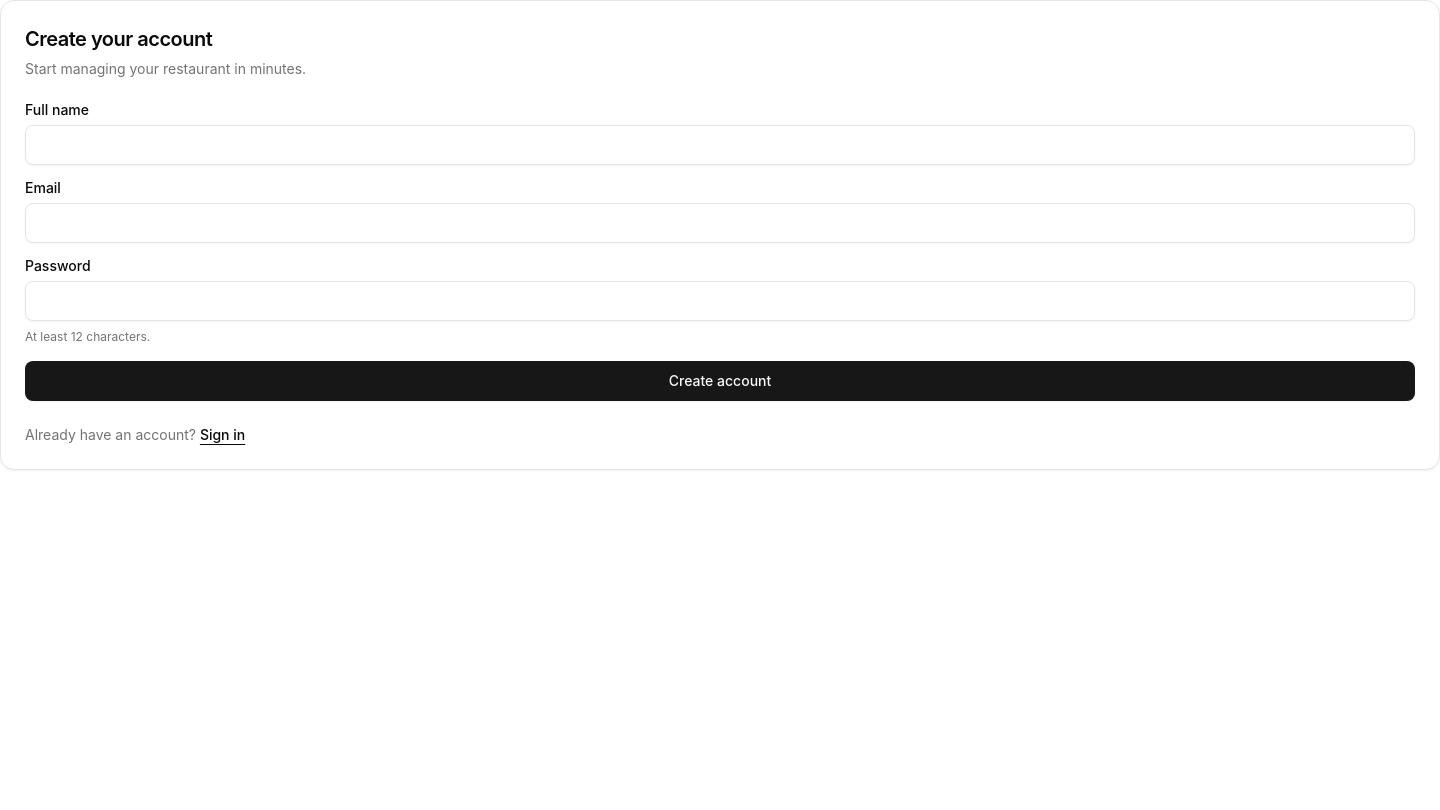
SignupForm › maps server validation details onto the matching fields
Type "Ayesha Khan" into the field labelled "Full name" at (720, 145), box [25,125,1415,165]
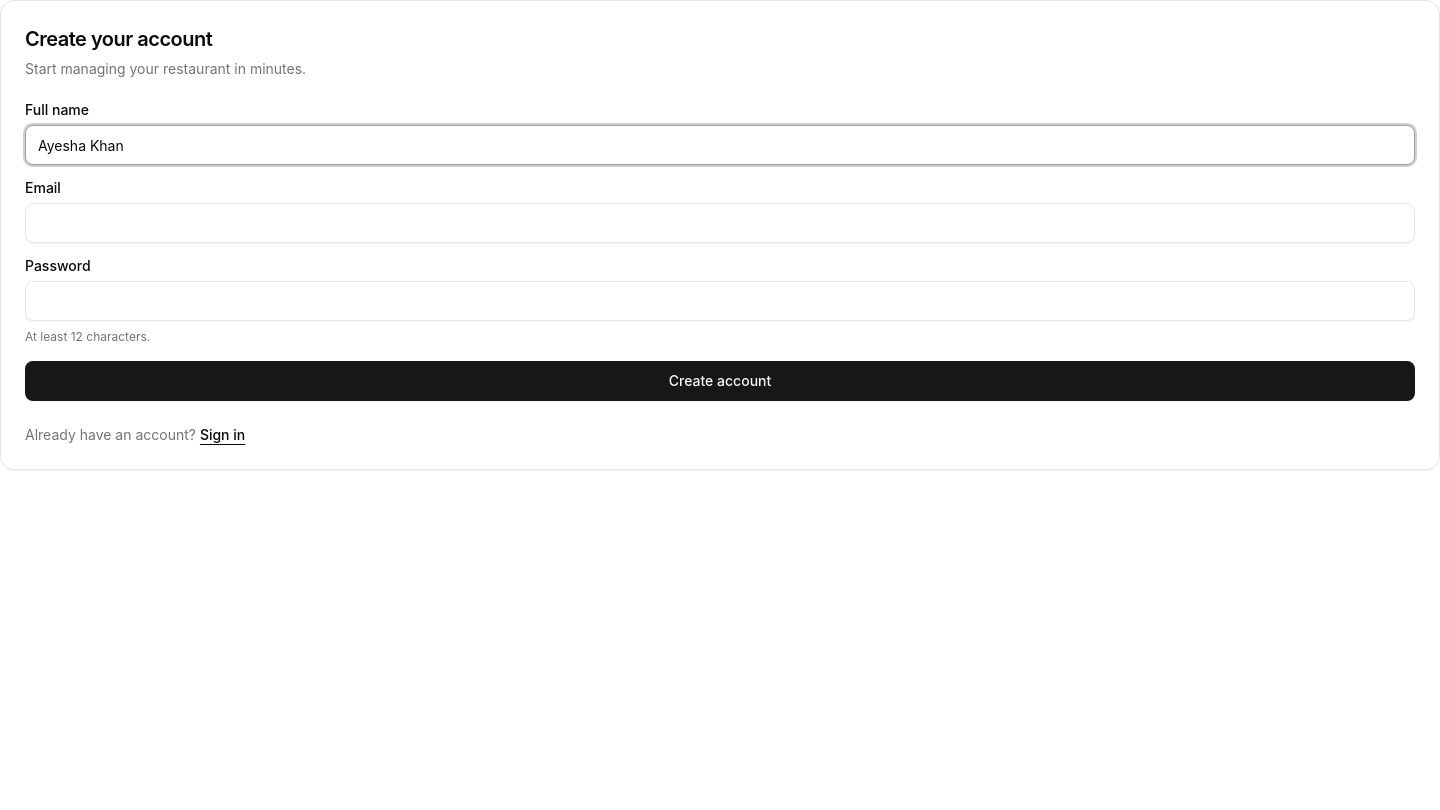
Type "ayesha@example.pk" into the field labelled "Email" at (720, 223), box [25,203,1415,243]
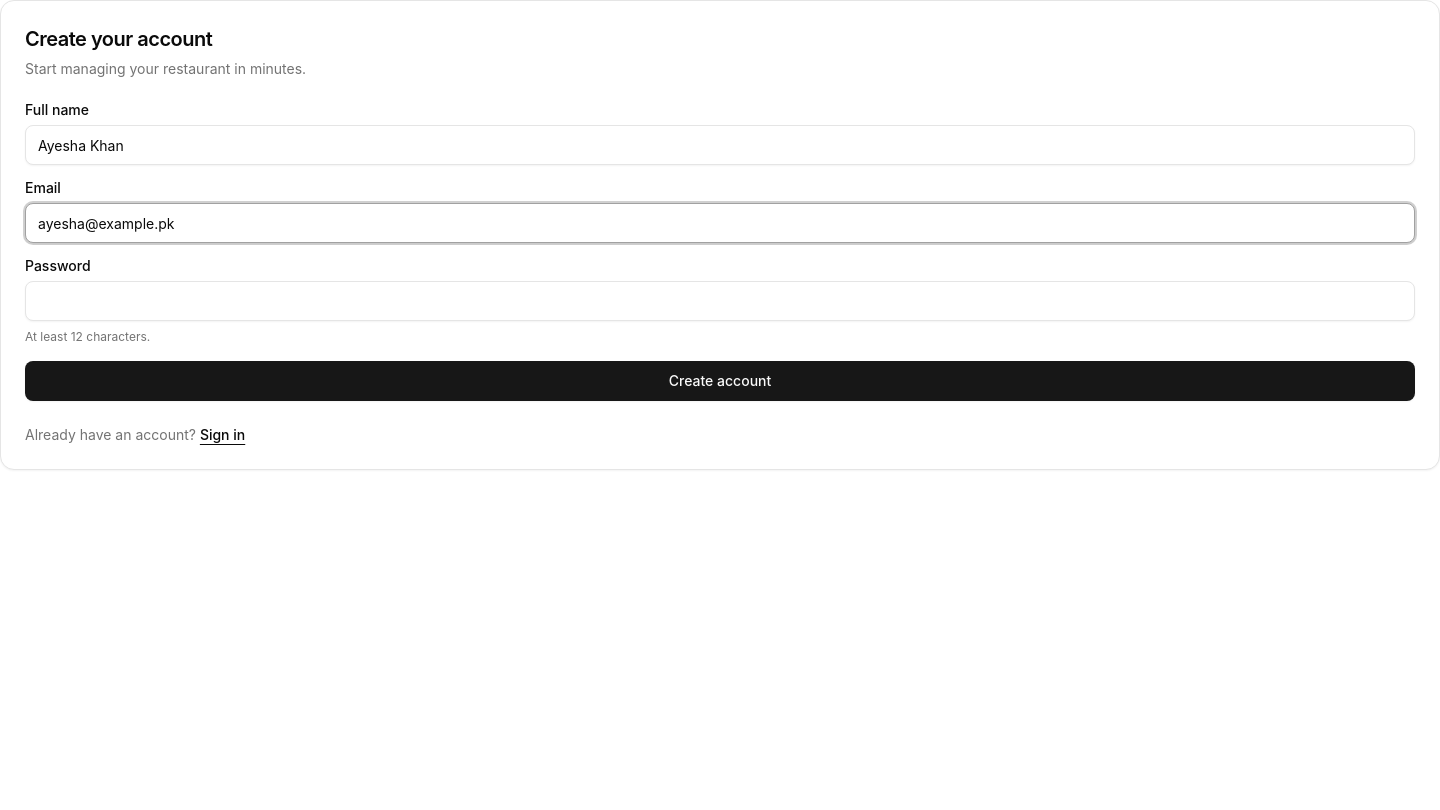
Type "a-very-long-password" into the password field labelled "Password" at (720, 301), box [25,281,1415,321]
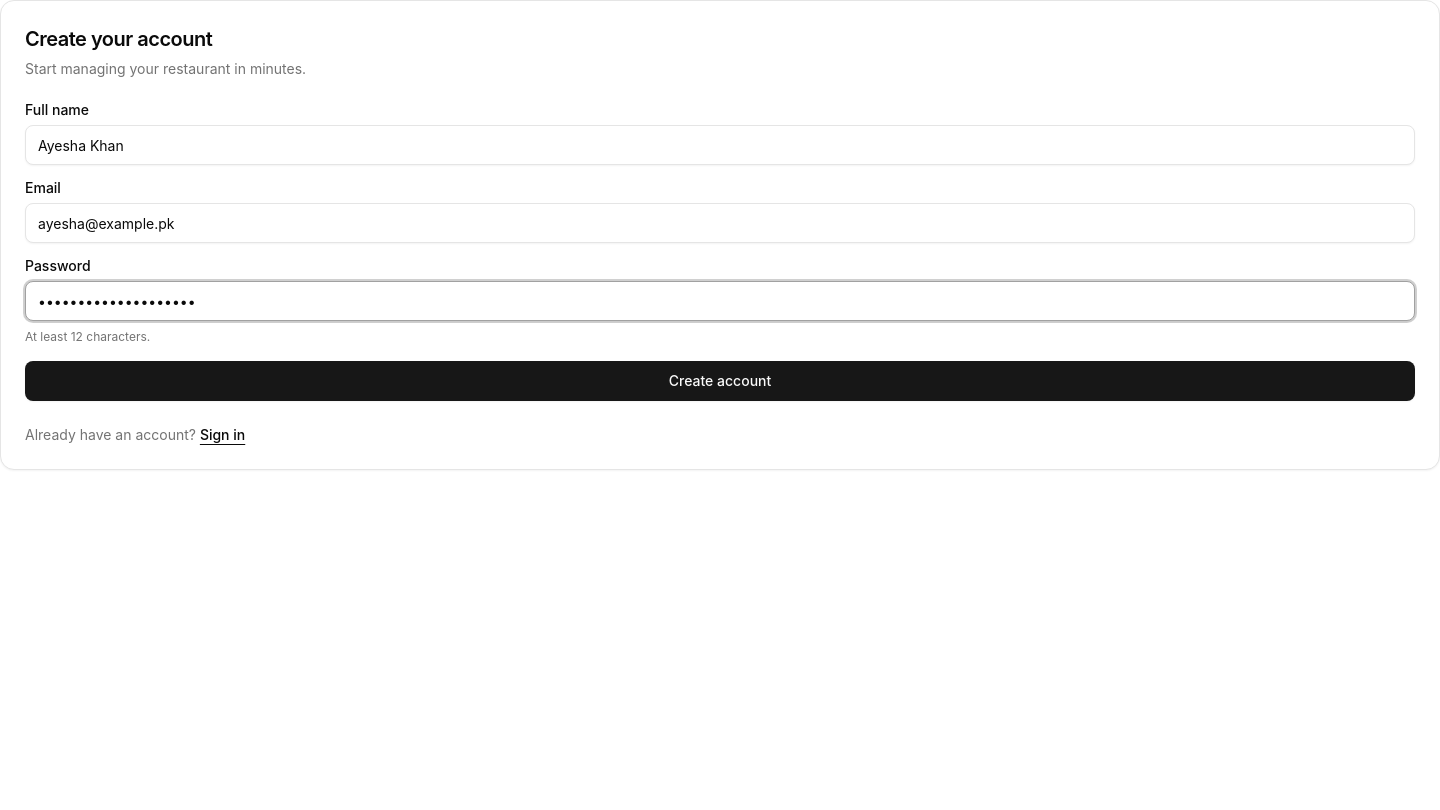
Click the button "Create account" at (720, 381), box [25,361,1415,401]
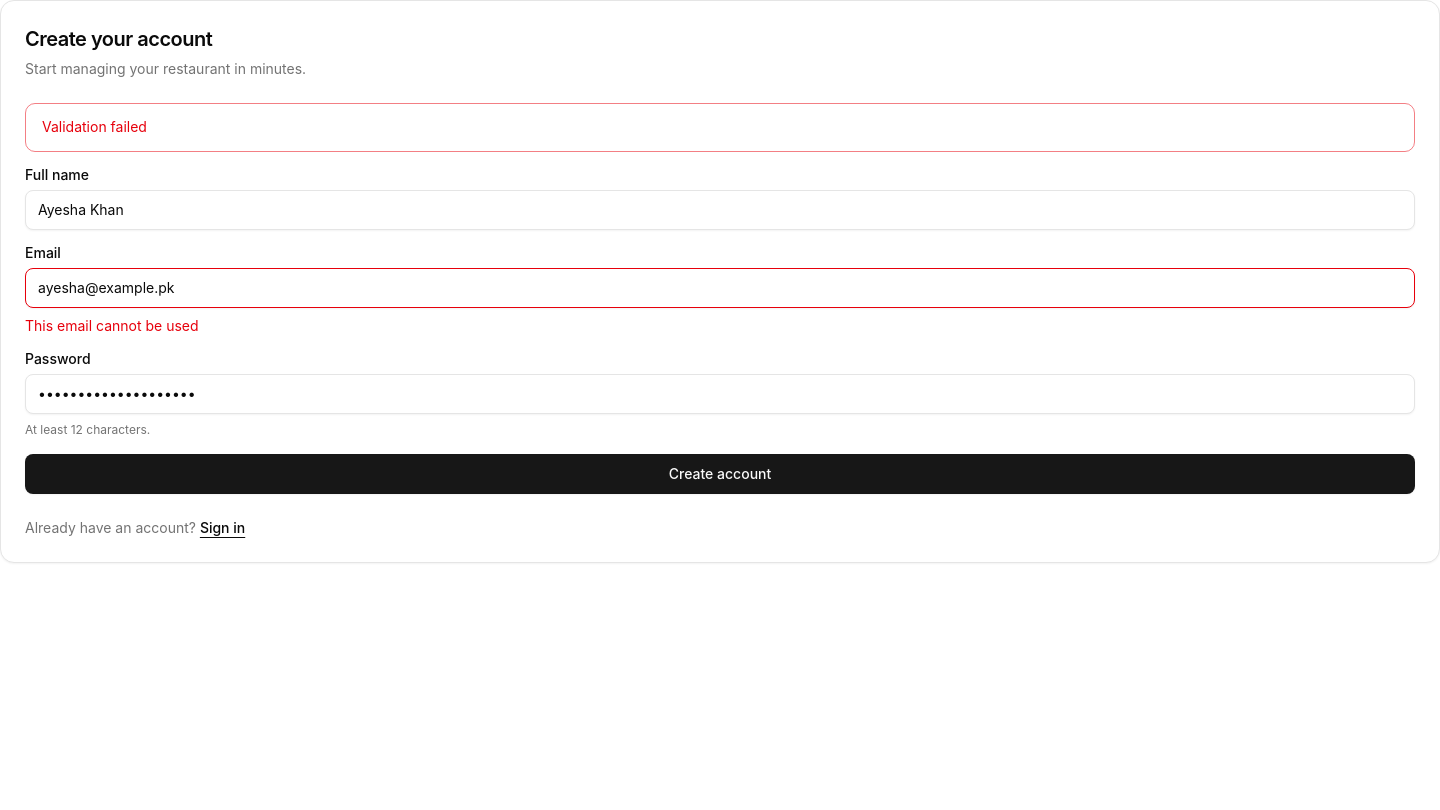
Result: the text "This email cannot be used" is shown at [25,317,199,334]
